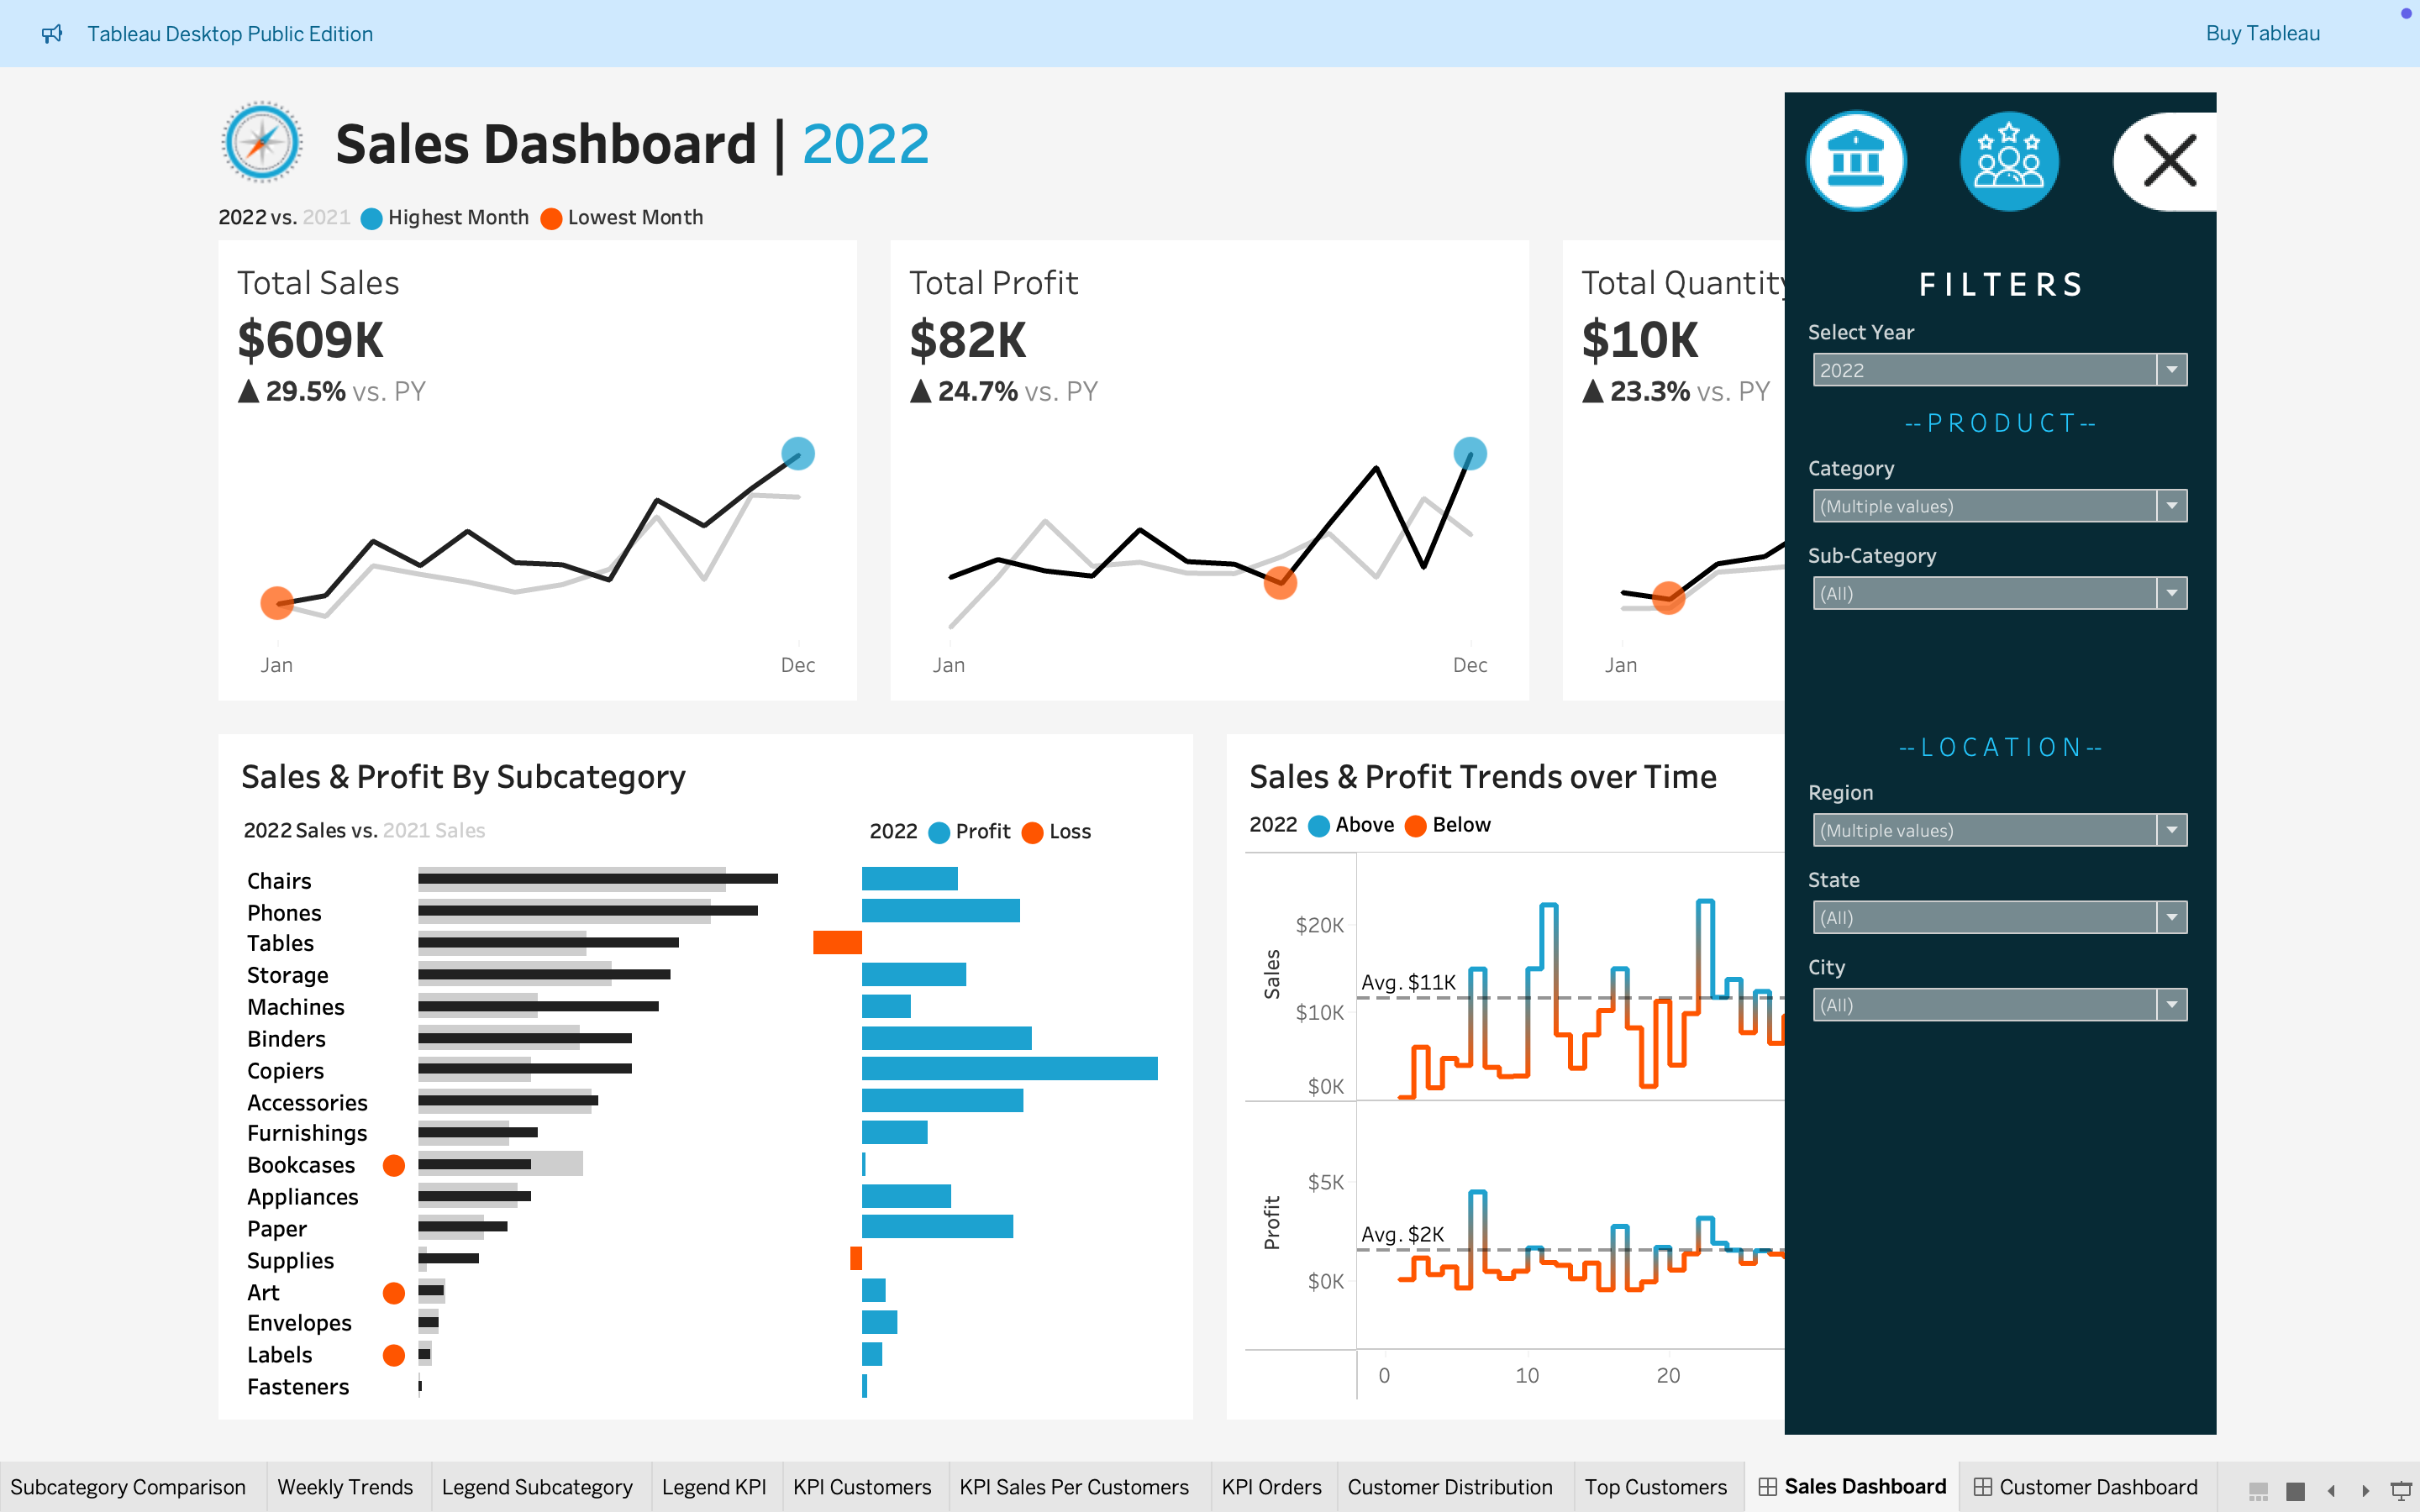

Layout of this report page (visuals, bound fields, positions):
{"tool":"tableau","page":{"name":"Sales Dashboard","canvas":[1200,800],"ordinal":1},"visuals":[{"type":"image","param":"Image/Icon - Logo.png","box":[0,0,73,59]},{"type":"text","box":[73,0,820,59]},{"type":"dashboard-object","box":[940,6,91,70]},{"type":"dashboard-object","box":[1031,6,91,70]},{"type":"blank","box":[952,10,237,86]},{"type":"worksheet","title":"Legend KPI","mark":"Automatic","box":[0,59,1200,29]},{"type":"worksheet","title":"KPI Sales","mark":"Automatic","rows":["Calculation_721701895347843083"],"cols":["Order Date"],"box":[0,88,400,284]},{"type":"worksheet","title":"KPI Profit","mark":"Automatic","rows":["Min/Max Sales (copy)_237846410425847814"],"cols":["Order Date"],"box":[400,88,400,284]},{"type":"worksheet","title":"KPI Quantity","mark":"Automatic","rows":["Min/Max Sales (copy) (copy)_237846410425856007"],"cols":["Order Date"],"box":[800,88,400,284]},{"type":"text","box":[952,96,237,34]},{"type":"parameter","param":"[Parameters].[Parameter 1]","box":[952,130,237,52]},{"type":"text","box":[952,182,237,29]},{"type":"filter","title":"KPI Sales","param":"[federated.1kpxa041aiai2y1cl4pui1t4eju9].[none:Category:nk]","box":[952,211,237,52]},{"type":"filter","title":"KPI Sales","param":"[federated.1kpxa041aiai2y1cl4pui1t4eju9].[none:Sub-Category:nk]","box":[952,263,237,52]},{"type":"blank","box":[952,315,237,60]},{"type":"text","box":[952,375,237,29]},{"type":"text","box":[17,389,566,34]},{"type":"text","box":[617,389,566,34]},{"type":"filter","title":"KPI Sales","param":"[federated.1kpxa041aiai2y1cl4pui1t4eju9].[none:Region:nk]","box":[952,404,237,52]},{"type":"worksheet","title":"Legend Subcategory","mark":"Automatic","box":[17,423,374,32]},{"type":"text","box":[391,423,192,32]},{"type":"text","box":[617,423,566,25]},{"type":"worksheet","title":"Weekly Trends","mark":"Automatic","rows":["Calculation_721701895334993921","CY Sales (copy)_237846410424180736"],"cols":["Order Date"],"box":[617,448,566,335]},{"type":"worksheet","title":"Subcategory Comparison","mark":"Bar","rows":["Sub-Category","Calculation_2435040078806671369"],"cols":["CY Sales (copy)_721701895335804930","Calculation_721701895334993921","CY Sales (copy)_237846410424180736"],"box":[17,455,566,327.9]},{"type":"filter","title":"KPI Sales","param":"[federated.1kpxa041aiai2y1cl4pui1t4eju9].[none:State:nk]","box":[952,456,237,52]},{"type":"filter","title":"KPI Sales","param":"[federated.1kpxa041aiai2y1cl4pui1t4eju9].[none:City:nk]","box":[952,508,237,52]}]}

Visuals, with their boxes on the page's 1200x800 design canvas (x1, y1, x2, y2). These are canvas units, not pixel positions in the 2420x1512 screenshot, which may show the page scaled, cropped or inside an application window:
image: {"x1": 0, "y1": 0, "x2": 73, "y2": 59}
text: {"x1": 73, "y1": 0, "x2": 893, "y2": 59}
dashboard-object: {"x1": 940, "y1": 6, "x2": 1031, "y2": 76}
dashboard-object: {"x1": 1031, "y1": 6, "x2": 1122, "y2": 76}
blank: {"x1": 952, "y1": 10, "x2": 1189, "y2": 96}
"Legend KPI" worksheet: {"x1": 0, "y1": 59, "x2": 1200, "y2": 88}
"KPI Sales" worksheet: {"x1": 0, "y1": 88, "x2": 400, "y2": 372}
"KPI Profit" worksheet: {"x1": 400, "y1": 88, "x2": 800, "y2": 372}
"KPI Quantity" worksheet: {"x1": 800, "y1": 88, "x2": 1200, "y2": 372}
text: {"x1": 952, "y1": 96, "x2": 1189, "y2": 130}
parameter: {"x1": 952, "y1": 130, "x2": 1189, "y2": 182}
text: {"x1": 952, "y1": 182, "x2": 1189, "y2": 211}
"KPI Sales" filter: {"x1": 952, "y1": 211, "x2": 1189, "y2": 263}
"KPI Sales" filter: {"x1": 952, "y1": 263, "x2": 1189, "y2": 315}
blank: {"x1": 952, "y1": 315, "x2": 1189, "y2": 375}
text: {"x1": 952, "y1": 375, "x2": 1189, "y2": 404}
text: {"x1": 17, "y1": 389, "x2": 583, "y2": 423}
text: {"x1": 617, "y1": 389, "x2": 1183, "y2": 423}
"KPI Sales" filter: {"x1": 952, "y1": 404, "x2": 1189, "y2": 456}
"Legend Subcategory" worksheet: {"x1": 17, "y1": 423, "x2": 391, "y2": 455}
text: {"x1": 391, "y1": 423, "x2": 583, "y2": 455}
text: {"x1": 617, "y1": 423, "x2": 1183, "y2": 448}
"Weekly Trends" worksheet: {"x1": 617, "y1": 448, "x2": 1183, "y2": 783}
"Subcategory Comparison" worksheet (Bar marks): {"x1": 17, "y1": 455, "x2": 583, "y2": 783}
"KPI Sales" filter: {"x1": 952, "y1": 456, "x2": 1189, "y2": 508}
"KPI Sales" filter: {"x1": 952, "y1": 508, "x2": 1189, "y2": 560}
